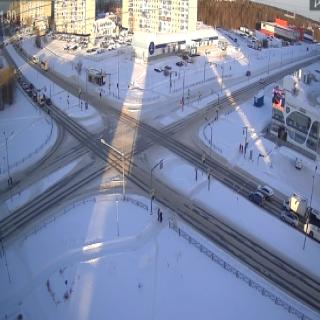large-vehicle: (282, 193, 308, 218), (302, 209, 320, 241), (37, 91, 45, 108), (40, 60, 49, 72), (31, 54, 39, 64)
small-vehicle: (280, 210, 299, 228), (256, 183, 274, 201), (246, 192, 265, 208), (152, 64, 162, 74), (17, 74, 25, 85), (259, 77, 265, 85), (32, 94, 38, 102), (21, 82, 27, 90), (165, 64, 172, 70), (175, 62, 182, 68), (45, 99, 52, 105), (28, 91, 34, 98), (29, 82, 34, 89), (246, 71, 251, 76)
